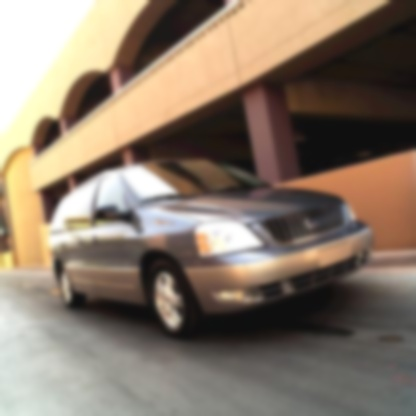Vehicle: (38, 152, 390, 338)
